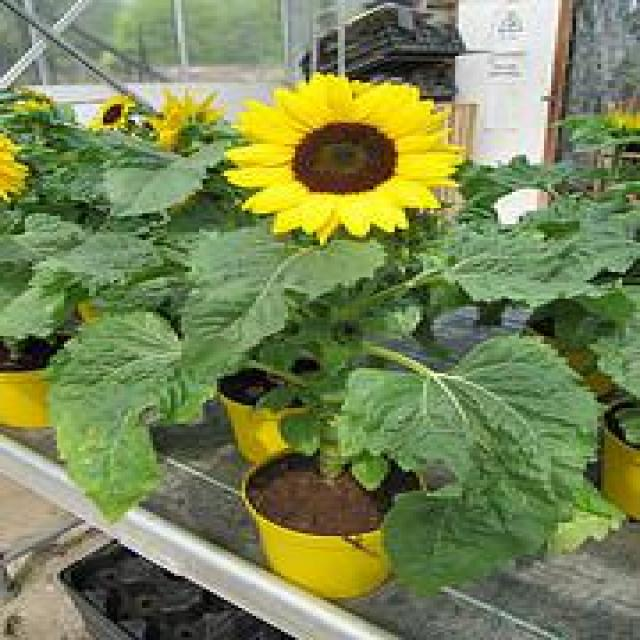sunflower: (226, 72, 464, 243), (153, 88, 218, 149), (0, 135, 26, 203), (92, 97, 135, 128)
